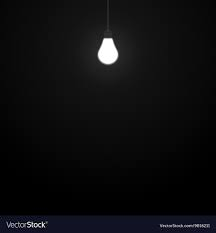bulb: (94, 31, 121, 70)
